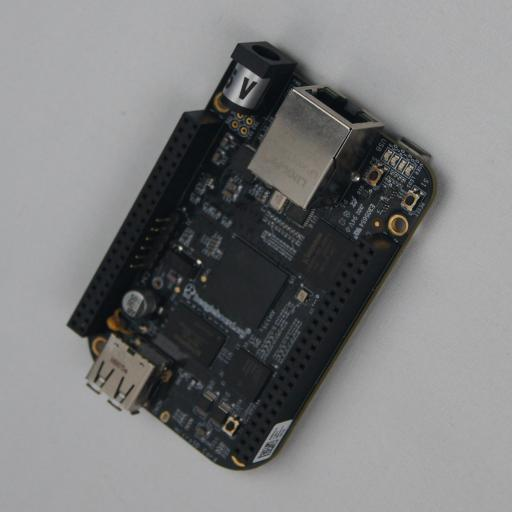Beaglebone Black: (67, 42, 444, 470)
